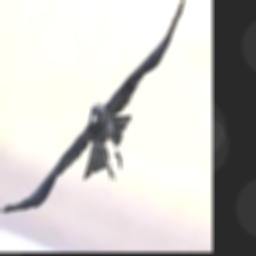Crow: (1, 0, 185, 214)
